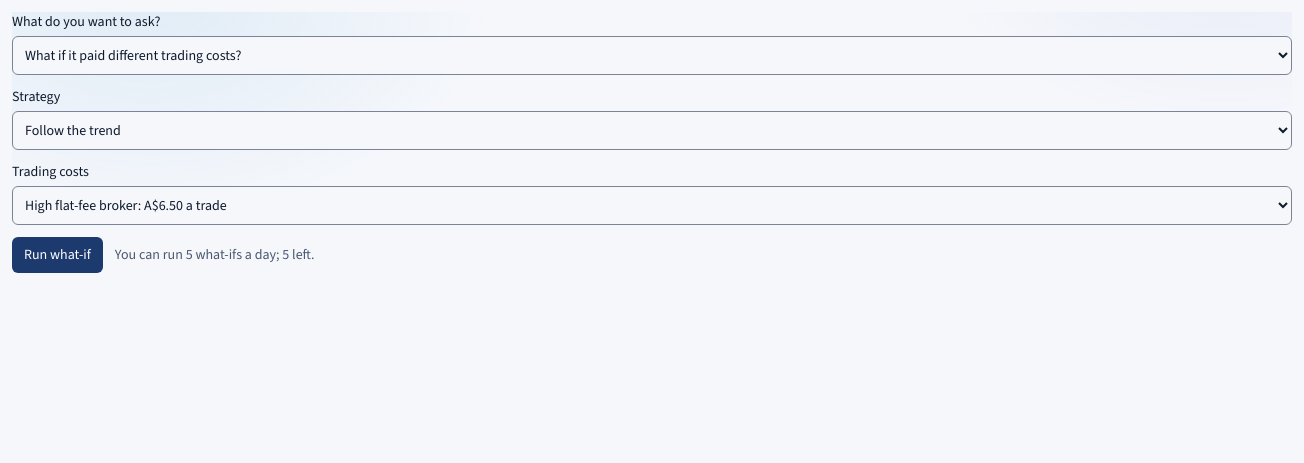
Test: what-if form variants › words a falling shock without a plus sign
Select "What if every share moved by the same percentage?" in the dropdown labelled "What do you want to ask?" at (652, 56), box left=12, top=36, right=1292, bottom=75
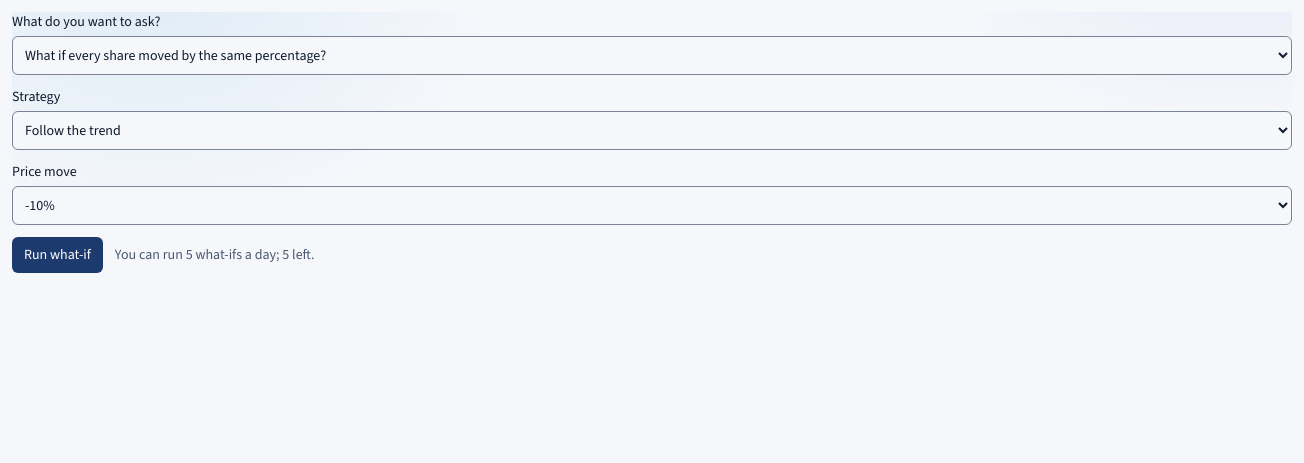
Select "-10%" in the dropdown labelled "Price move" at (652, 206), box left=12, top=186, right=1292, bottom=225
Click the button "Run what-if" at (57, 255), box left=12, top=237, right=103, bottom=273
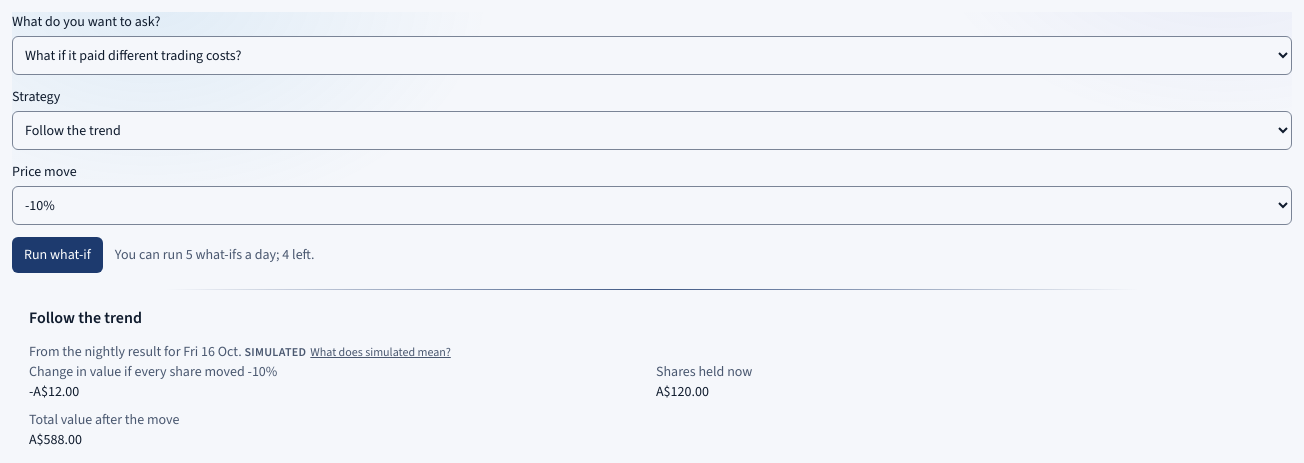
Result: the text "Change in value if every share moved -10%" is shown at left=29, top=362, right=277, bottom=381
